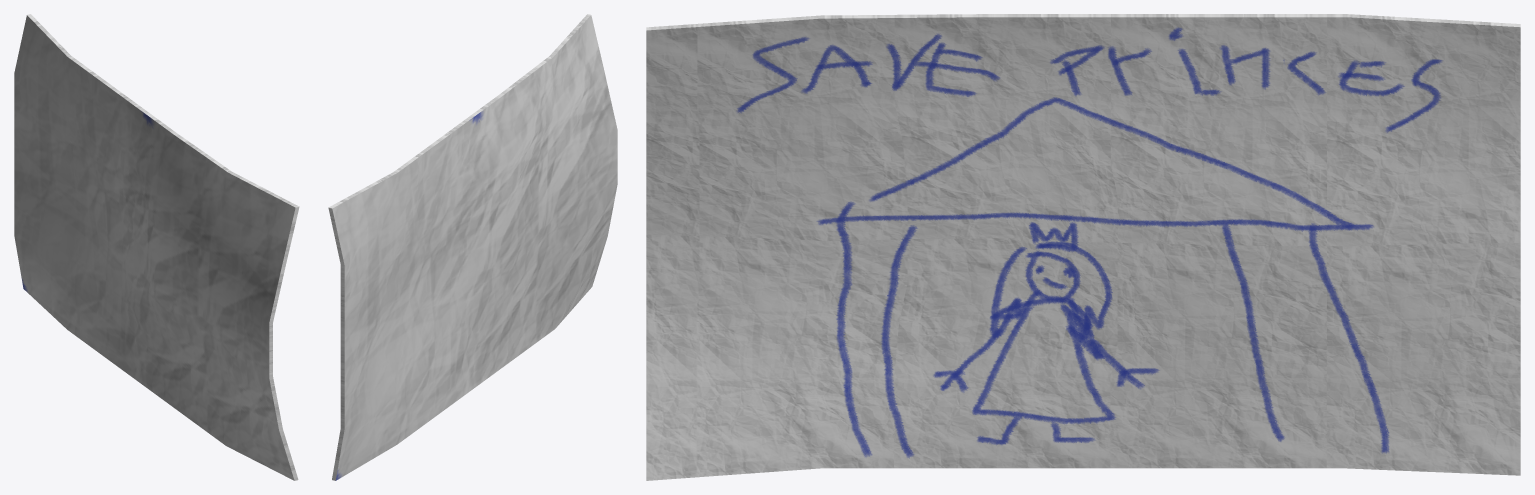
File: Save_princess_paper.fbx
The picture shows the model from 3 angles, left to right: view 1: azimuth 30°, elevation 25°; view 2: azimuth 150°, elevation 25°; view 3: azimuth 270°, elevation 25°; orthographic projection. The views are drawn at different scales.
Parts seen in each view (by area): view 1: pPlane1; view 2: pPlane1; view 3: pPlane1.
Part boxes in pixels (bbox=[...]): pPlane1: bbox=[14, 14, 299, 480]; pPlane1: bbox=[328, 14, 617, 480]; pPlane1: bbox=[646, 14, 1520, 480].
Size of the model in its own units: 0.7553 by 6.08 by 10.68.
Materials: 1 (1 with a texture image).
